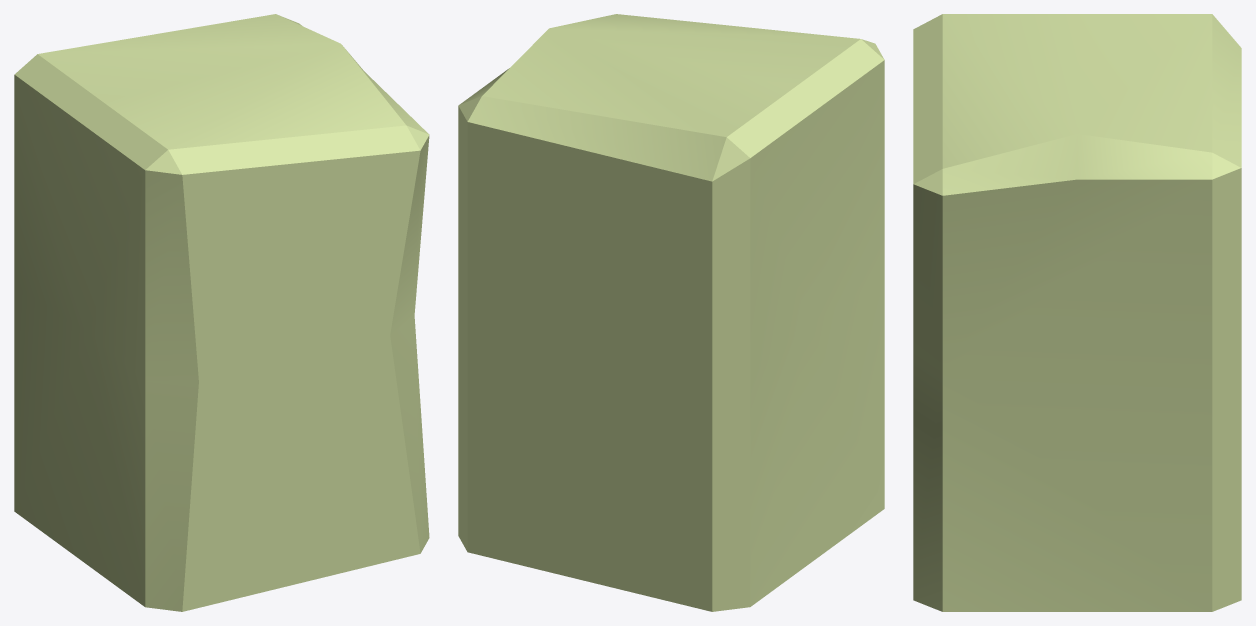
File: SingleBigBrick_alpha.FBX
3 views of the same model, side by side, from view 1: azimuth 30°, elevation 25°; view 2: azimuth 150°, elevation 25°; view 3: azimuth 270°, elevation 25° (orthographic). The views are drawn at different scales.
Parts seen in each view (by area): view 1: Box001; view 2: Box001; view 3: Box001.
Part boxes in pixels (<box>): Box001: <box>14,14,429,611</box>; Box001: <box>458,14,884,611</box>; Box001: <box>913,14,1241,611</box>.
Size of the model in its own units: 39.05 by 59.31 by 37.8.
